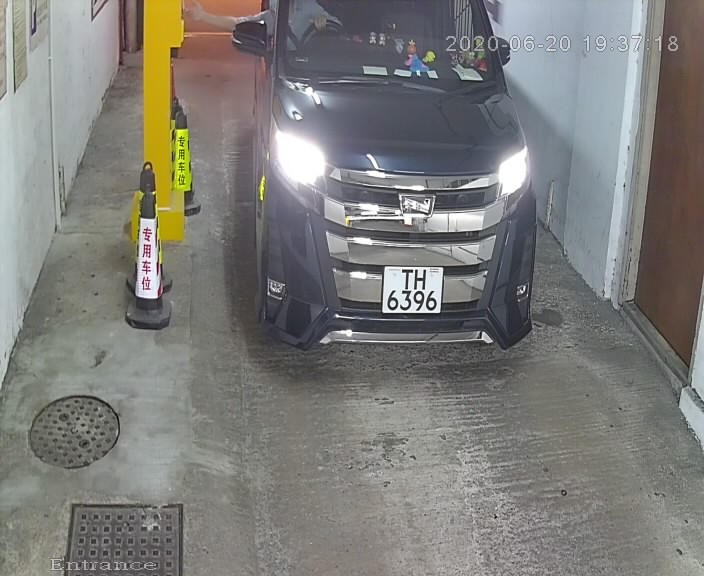privatecar: (218, 2, 558, 410)
